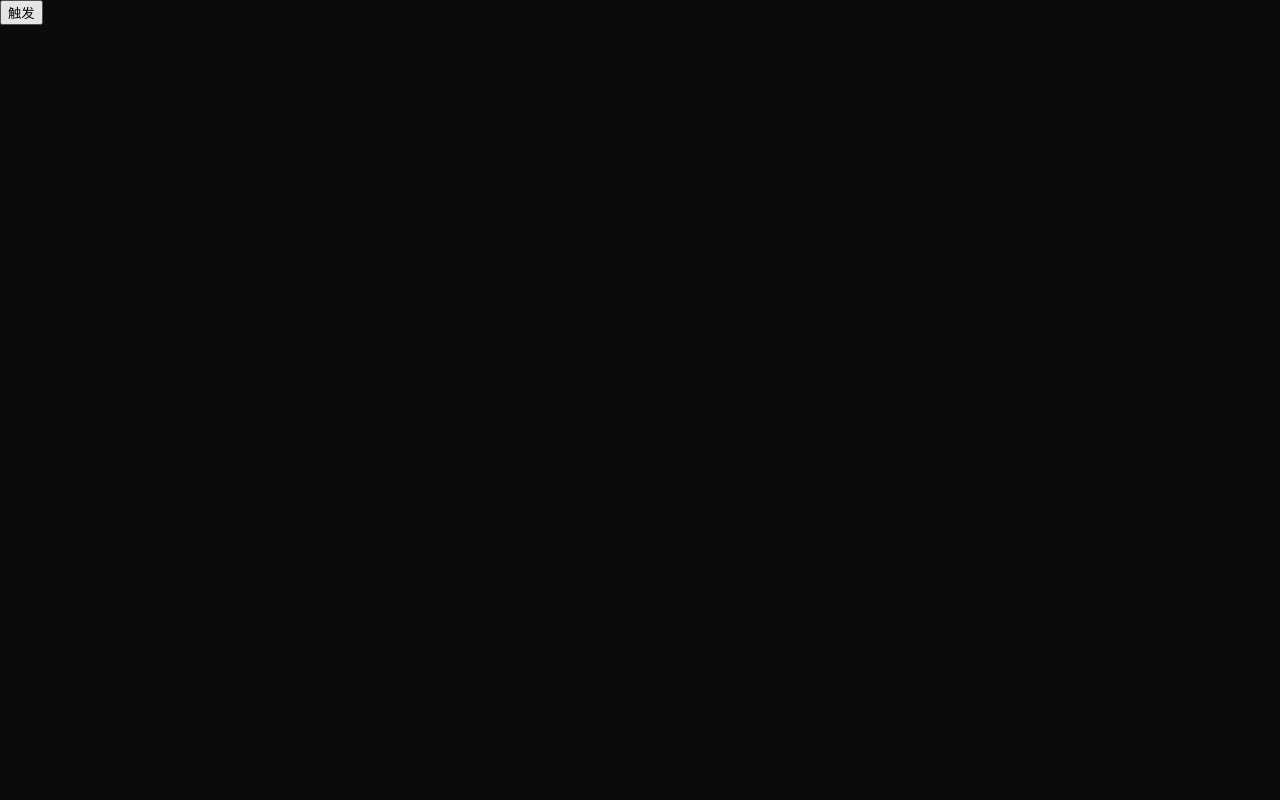
Test case: CommandPalette › 打开后输入节点名过滤列表，不区分大小写
Type keys "{Control>}k{/Control}"
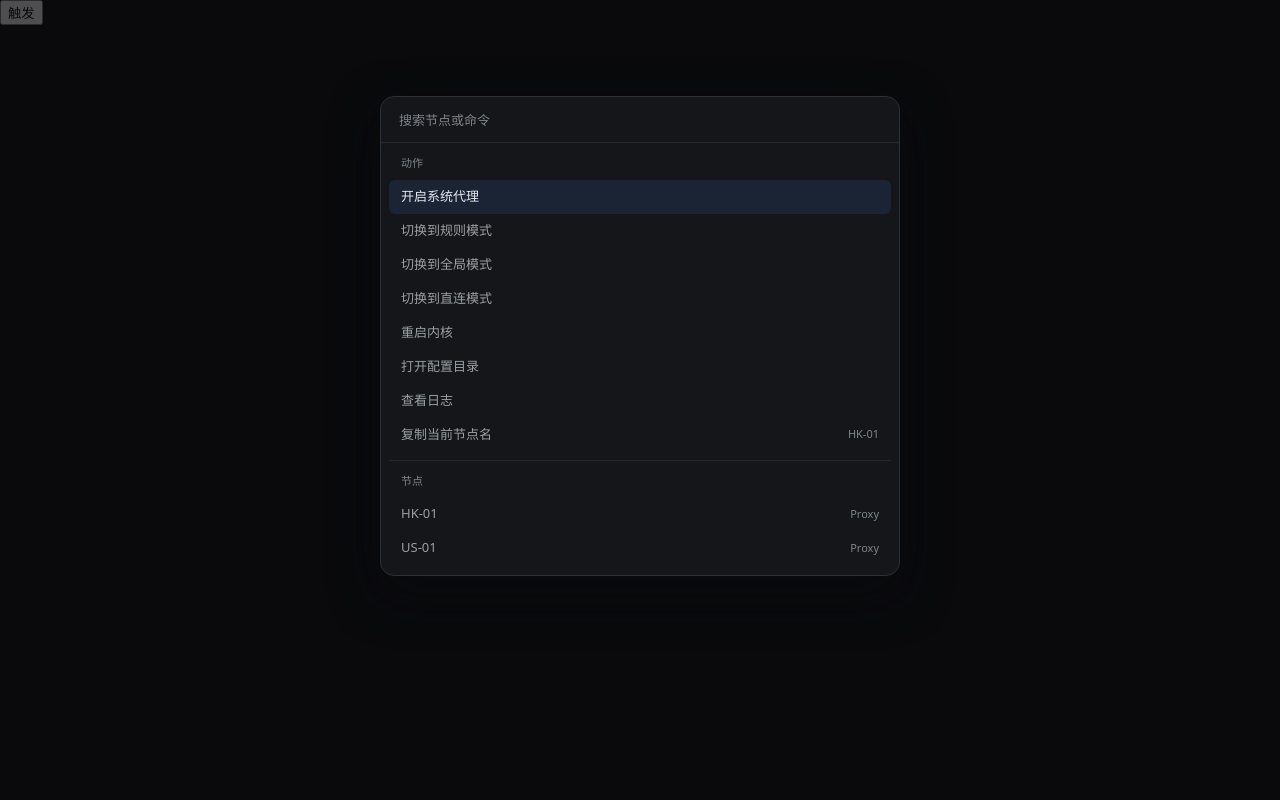
Type "hk" into the dropdown labelled "搜索节点或命令". click: (640, 120)
box: [381,97,899,143]
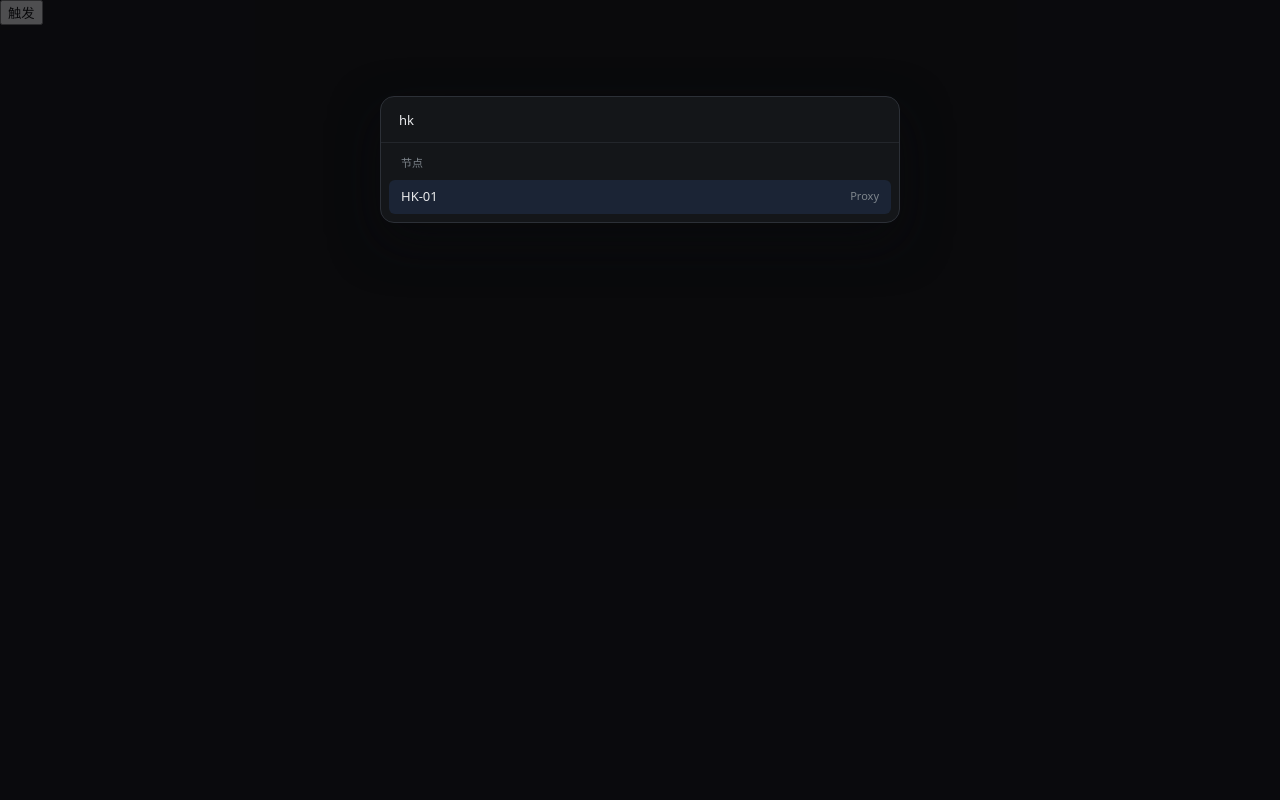
Result: the option "HK-01 Proxy" is shown at [389,180,891,214]
Result: the option "US-01" is gone
Result: the option "JP-01" is gone
